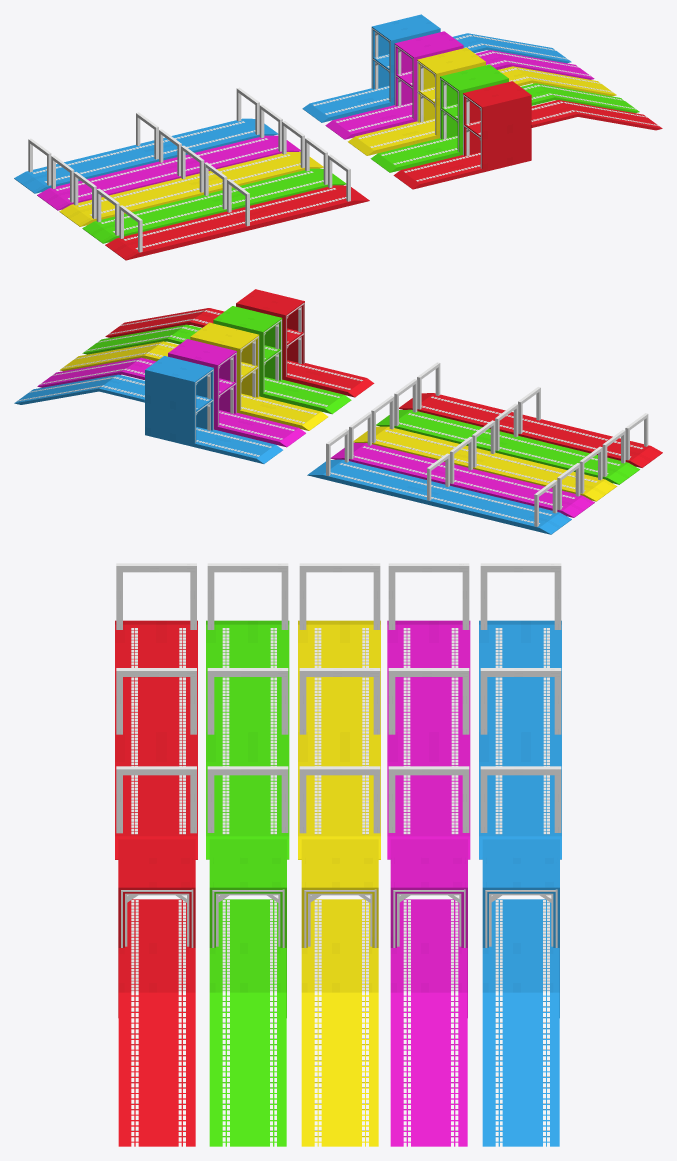
File: doubleparking.glb
The picture shows the model from 3 angles, top to bottom: view 1: azimuth 30°, elevation 25°; view 2: azimuth 150°, elevation 25°; view 3: azimuth 270°, elevation 25°; orthographic projection. The views are drawn at different scales.
Parts seen in each view (by area): view 1: Material_012-material, Material_011-material, Material_008-material, Material_010-material, Material_009-material, Material_007-material, Material_007-material_2, Material_007-material_4, Material_007-material_1, Material_007-material_3; view 2: Material_008-material, Material_009-material, Material_011-material, Material_012-material, Material_010-material, Material_007-material_4, Material_007-material_1, Material_007-material, Material_007-material_2, Material_007-material_3; view 3: Material_011-material, Material_009-material, Material_010-material, Material_008-material, Material_012-material, Material_007-material_3, Material_007-material_2, Material_007-material_1, Material_007-material_4, Material_007-material.
Part boxes in pixels (<box>): Material_012-material: <box>105,81,662,260</box>; Material_011-material: <box>82,64,639,243</box>; Material_008-material: <box>14,14,571,193</box>; Material_010-material: <box>59,47,616,226</box>; Material_009-material: <box>37,31,594,210</box>; Material_007-material: <box>119,94,658,252</box>; Material_007-material_2: <box>73,61,612,218</box>; Material_007-material_4: <box>28,28,567,185</box>; Material_007-material_1: <box>96,78,636,235</box>; Material_007-material_3: <box>51,45,590,202</box>; Material_008-material: <box>14,356,571,534</box>; Material_009-material: <box>37,339,594,517</box>; Material_011-material: <box>82,306,639,484</box>; Material_012-material: <box>105,289,662,467</box>; Material_010-material: <box>59,322,617,501</box>; Material_007-material_4: <box>17,369,557,526</box>; Material_007-material_1: <box>85,319,625,476</box>; Material_007-material: <box>108,303,648,460</box>; Material_007-material_2: <box>62,336,602,493</box>; Material_007-material_3: <box>40,352,580,509</box>; Material_011-material: <box>206,620,289,1146</box>; Material_009-material: <box>387,620,470,1146</box>; Material_010-material: <box>298,620,380,1146</box>; Material_008-material: <box>479,620,561,1146</box>; Material_012-material: <box>115,620,197,1146</box>; Material_007-material_3: <box>388,563,469,1146</box>; Material_007-material_2: <box>299,563,380,1146</box>; Material_007-material_1: <box>207,563,288,1146</box>; Material_007-material_4: <box>480,563,561,1146</box>; Material_007-material: <box>116,563,196,1146</box>.
Size of the model in its own units: 68.64 by 7.99 by 24.72.
Materials: 6 (6 with a texture image).
